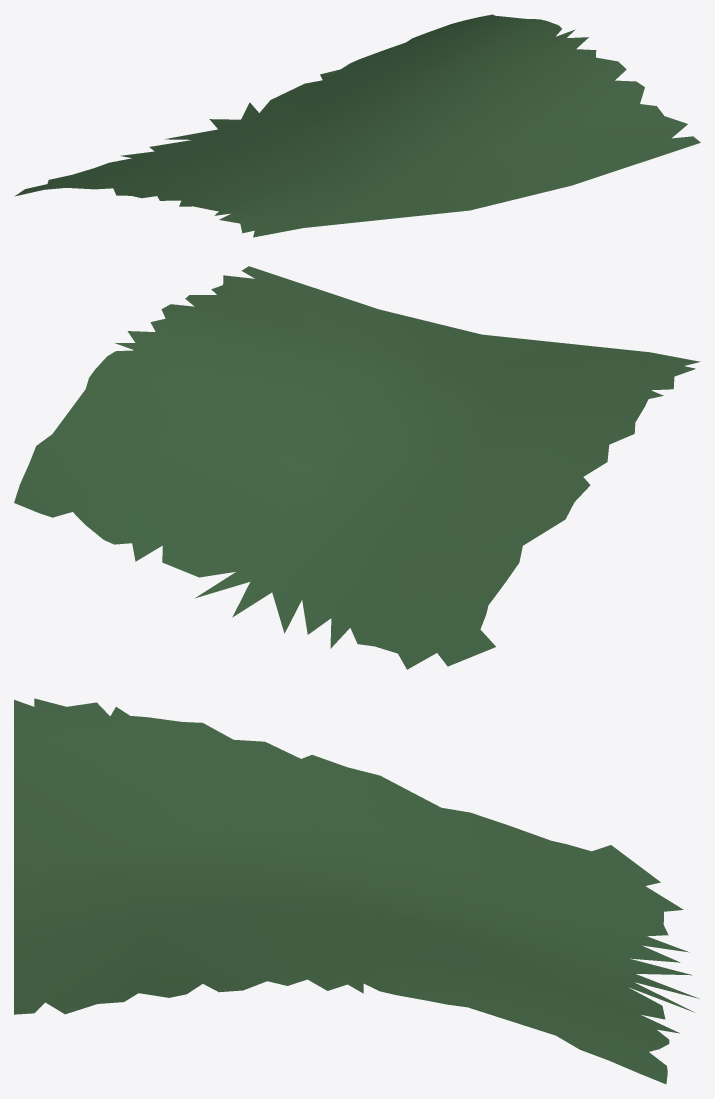
The model's file is payo_land_xm2_y10_lod2.glb.
3 renders of one model, top to bottom at view 1: azimuth 30°, elevation 25°; view 2: azimuth 150°, elevation 25°; view 3: azimuth 270°, elevation 25°, orthographic. The views are drawn at different scales.
Parts seen in each view (by area): view 1: payo_land_xm2_y10; view 2: payo_land_xm2_y10; view 3: payo_land_xm2_y10.
Part boxes in pixels (x1,y1,x2,y2): payo_land_xm2_y10: (14, 14, 700, 237); payo_land_xm2_y10: (14, 266, 700, 669); payo_land_xm2_y10: (14, 698, 699, 1084).
Size of the model in its own units: 275 by 77.69 by 257.
